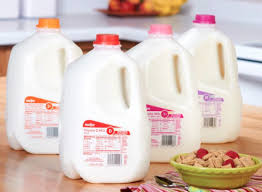milk: (67, 36, 152, 182), (11, 18, 77, 158), (135, 25, 199, 161), (186, 16, 244, 142)
